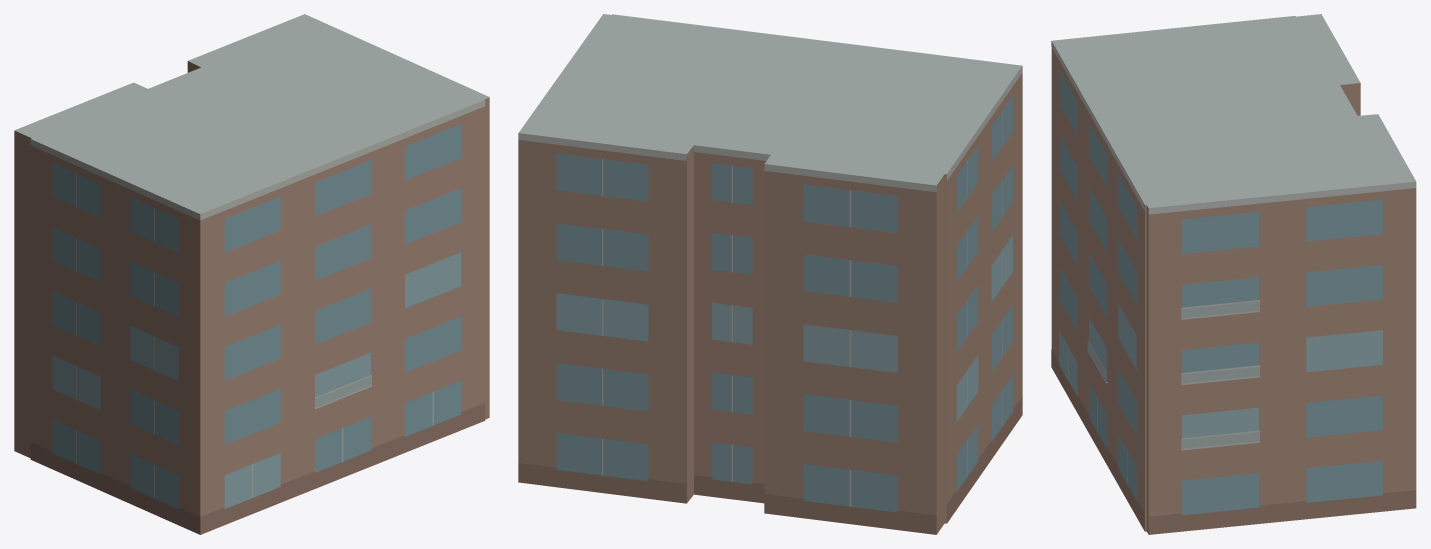
File: survey-upis-32913858.glb
3 views of the same model, side by side, from view 1: azimuth 30°, elevation 25°; view 2: azimuth 150°, elevation 25°; view 3: azimuth 270°, elevation 25° (orthographic). The views are drawn at different scales.
Visible parts, largest first — view 1: survey-upis-32913858.tmp; view 2: survey-upis-32913858.tmp; view 3: survey-upis-32913858.tmp.
Part boxes in pixels (left/top/right/bottom): survey-upis-32913858.tmp: left=14, top=14, right=489, bottom=534; survey-upis-32913858.tmp: left=518, top=14, right=1022, bottom=534; survey-upis-32913858.tmp: left=1051, top=14, right=1416, bottom=534.
Size of the model in its own units: 16.08 by 12.6 by 12.77.
